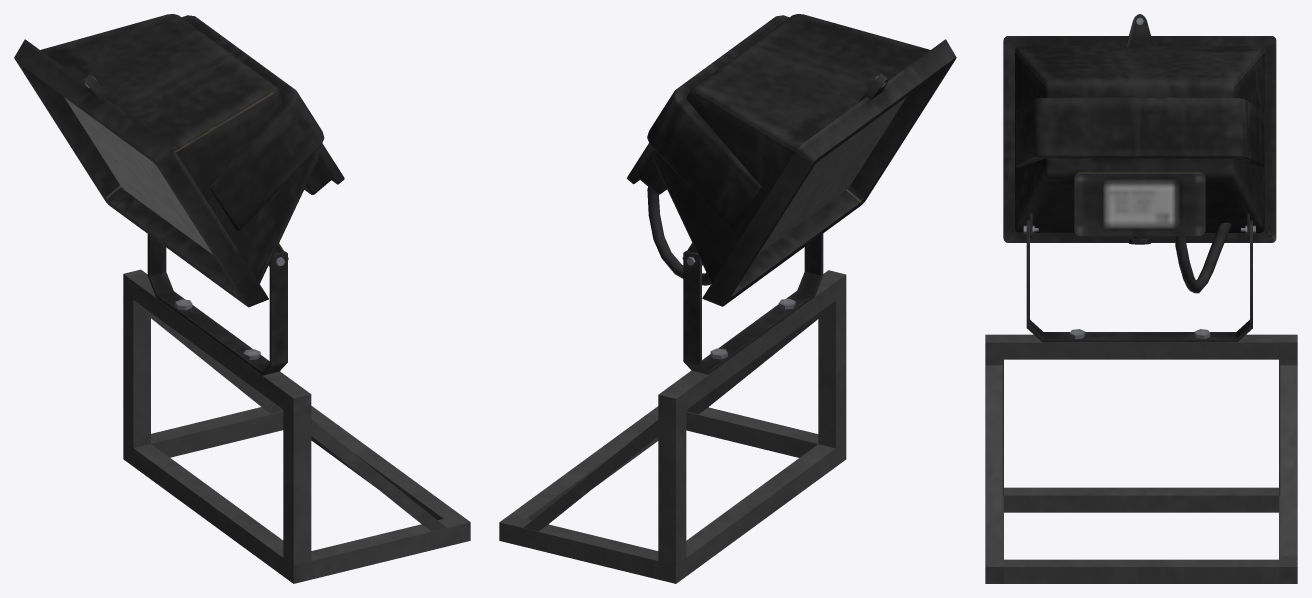
Rendered from SM_FloodLight_4.fbx.
The picture shows the model from 3 angles, left to right: view 1: azimuth 30°, elevation 25°; view 2: azimuth 150°, elevation 25°; view 3: azimuth 270°, elevation 25°; orthographic projection. The views are drawn at different scales.
Visible parts, largest first — view 1: SM_FloodLight_4_LOD0; view 2: SM_FloodLight_4_LOD0; view 3: SM_FloodLight_4_LOD0.
Part boxes in pixels (<box>): SM_FloodLight_4_LOD0: <box>14,14,470,583</box>; SM_FloodLight_4_LOD0: <box>499,14,956,583</box>; SM_FloodLight_4_LOD0: <box>985,14,1297,583</box>.
Size of the model in its own units: 51.27 by 50 by 77.25.
3 materials, 2 textured.
